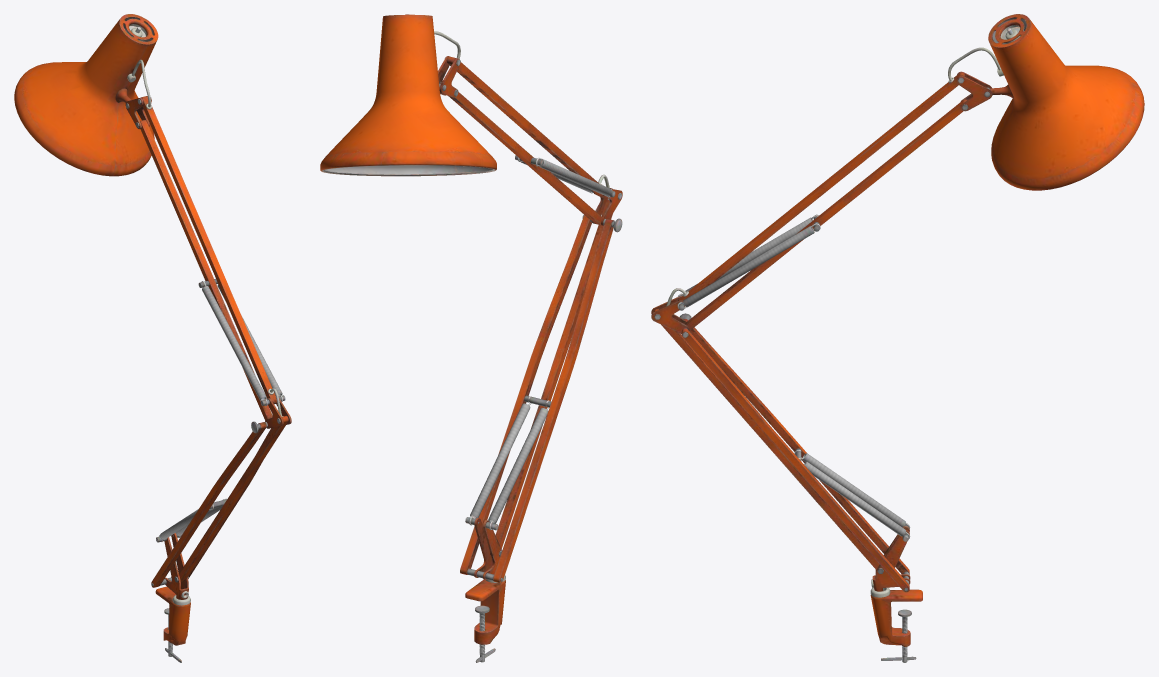
Rendered from desk_lamp.glb.
The picture shows the model from 3 angles, left to right: view 1: azimuth 30°, elevation 25°; view 2: azimuth 150°, elevation 25°; view 3: azimuth 270°, elevation 25°; orthographic projection. The views are drawn at different scales.
Visible parts, largest first — view 1: desk_lamp_arm_01; view 2: desk_lamp_arm_01; view 3: desk_lamp_arm_01.
Part boxes in pixels (<box>): desk_lamp_arm_01: <box>14,14,291,662</box>; desk_lamp_arm_01: <box>320,14,622,662</box>; desk_lamp_arm_01: <box>651,14,1144,662</box>.
Size of the model in its own units: 0.2017 by 0.8926 by 0.6139.
2 materials, 2 textured.
